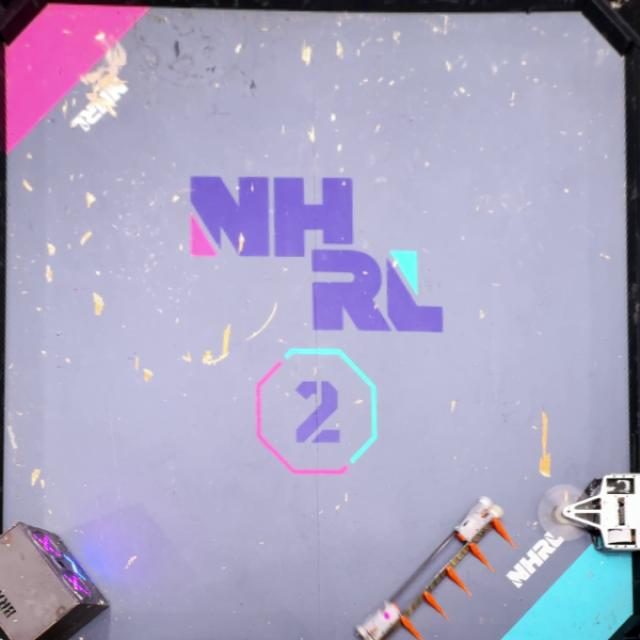housebot: (0, 518, 112, 639)
robot: (351, 493, 516, 640), (540, 468, 640, 556)
